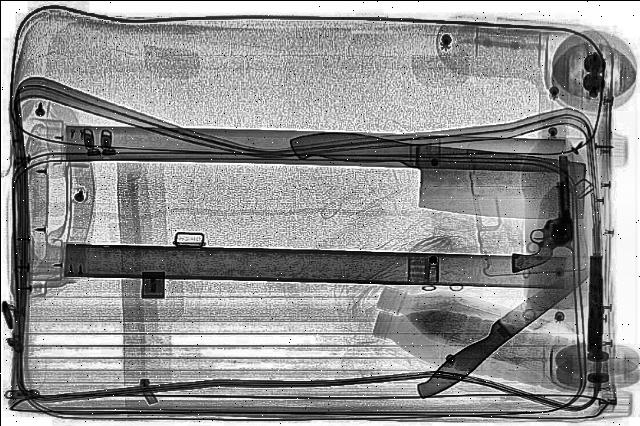Gun: (498, 154, 582, 270)
Knife: (278, 127, 598, 221), (404, 258, 608, 402)
